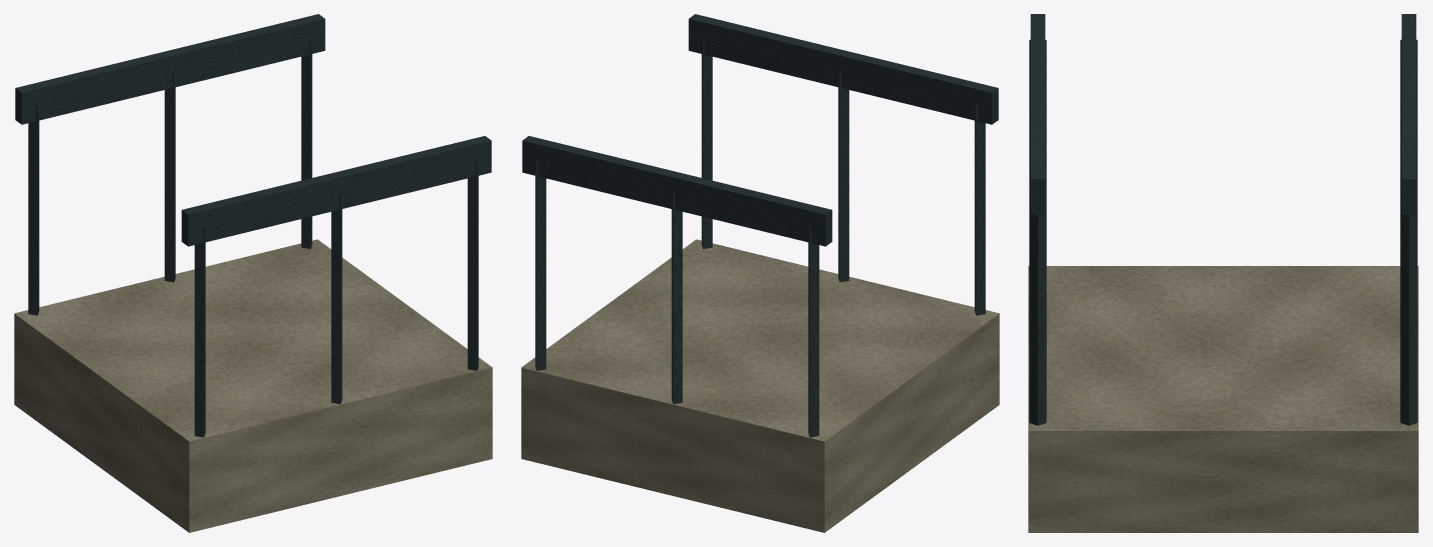
The model's file is bridge_segment_01.fbx.
3 views of the same model, side by side, from view 1: azimuth 30°, elevation 25°; view 2: azimuth 150°, elevation 25°; view 3: azimuth 270°, elevation 25° (orthographic). The views are drawn at different scales.
Parts seen in each view (by area): view 1: bridge_segment_01_LOD0; view 2: bridge_segment_01_LOD0; view 3: bridge_segment_01_LOD0.
Part boxes in pixels (x1,y1,x2,y2): bridge_segment_01_LOD0: [14, 14, 492, 532]; bridge_segment_01_LOD0: [521, 14, 999, 532]; bridge_segment_01_LOD0: [1028, 14, 1418, 532].
Size of what is drawn, in the model's own units: 1 by 1 by 1.
